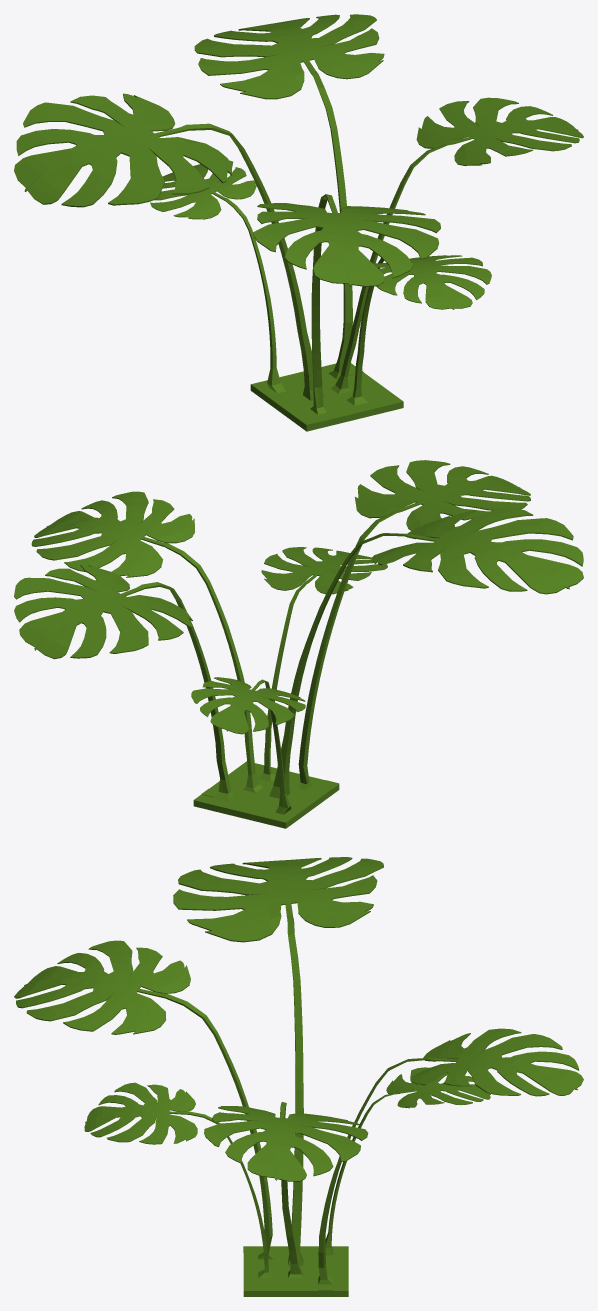
File: Dschungelpflanze_4.fbx
3 views of the same model, one above another, from view 1: azimuth 30°, elevation 25°; view 2: azimuth 150°, elevation 25°; view 3: azimuth 270°, elevation 25° (orthographic). The views are drawn at different scales.
Parts seen in each view (by area): view 1: Cube.001; view 2: Cube.001; view 3: Cube.001.
Boxes of the visible parts, x1,y1,x2,y2 form: Cube.001: (14, 14, 583, 431); Cube.001: (14, 460, 583, 828); Cube.001: (14, 857, 583, 1296).
Bounding box in the file's own units: 919 × 511 × 876.
